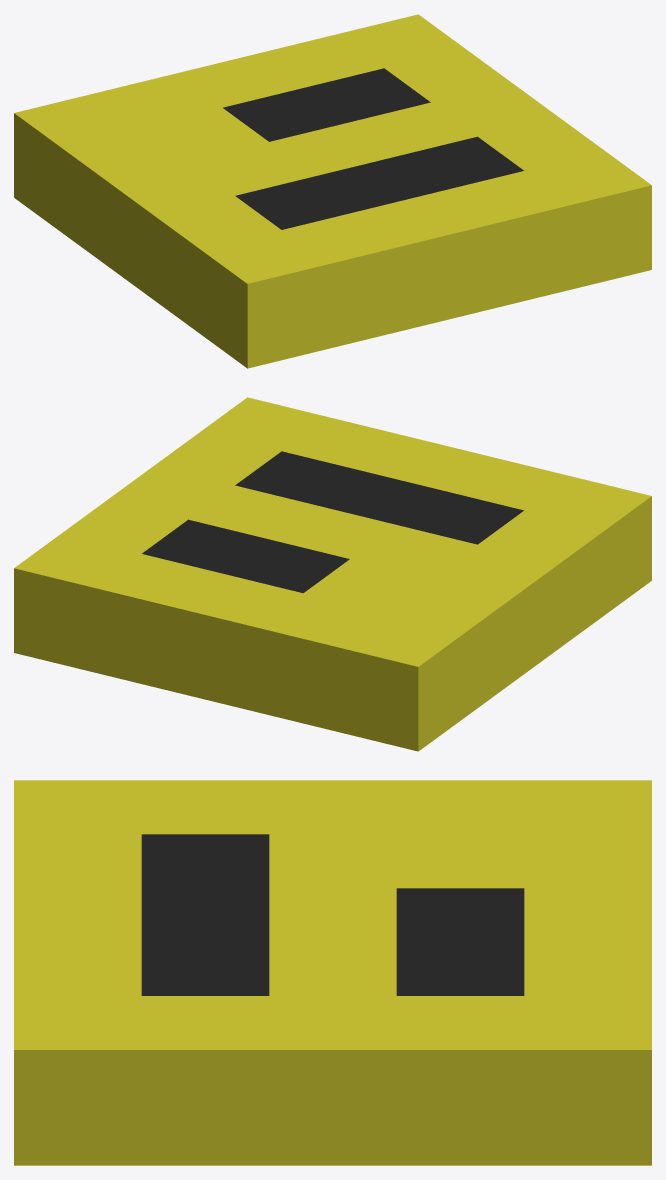
Rendered from note_02.glb.
The picture shows the model from 3 angles, top to bottom: view 1: azimuth 30°, elevation 25°; view 2: azimuth 150°, elevation 25°; view 3: azimuth 270°, elevation 25°; orthographic projection. The views are drawn at different scales.
Parts seen in each view (by area): view 1: Untitled; view 2: Untitled; view 3: Untitled.
Part boxes in pixels (x1,y1,x2,y2): Untitled: (14,14,651,368); Untitled: (14,397,651,751); Untitled: (14,780,651,1165).
Bounding box in the file's own units: 0.15 × 0.03 × 0.15.
Materials: 1 (1 with a texture image).
